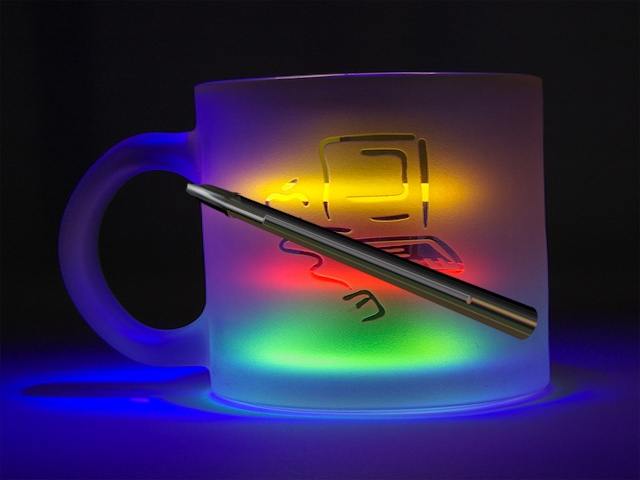pen: (177, 177, 545, 352)
